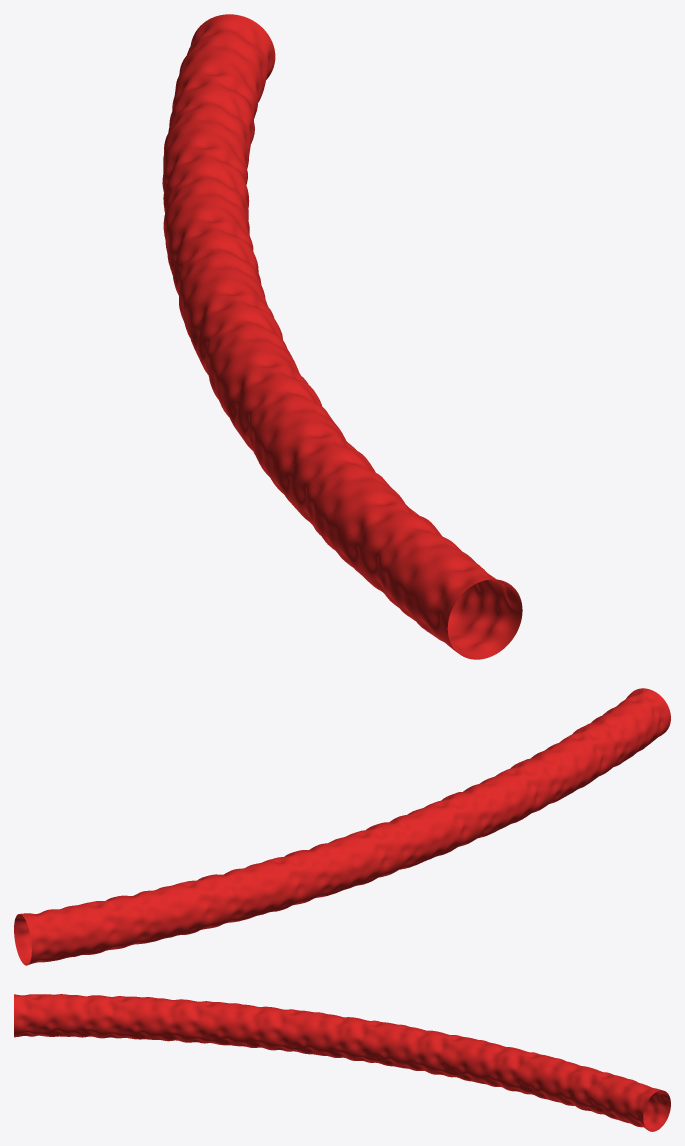
The model's file is VeinTurning.fbx.
The picture shows the model from 3 angles, top to bottom: view 1: azimuth 30°, elevation 25°; view 2: azimuth 150°, elevation 25°; view 3: azimuth 270°, elevation 25°; orthographic projection. The views are drawn at different scales.
Visible parts, largest first — view 1: VeinTurning; view 2: VeinTurning; view 3: VeinTurning.
Part boxes in pixels (x1=…): VeinTurning: x1=162, y1=14, x2=522, y2=659; VeinTurning: x1=14, y1=688, x2=670, y2=965; VeinTurning: x1=14, y1=994, x2=670, y2=1131.
Bounding box in the file's own units: 7299 × 1194 × 18147.
